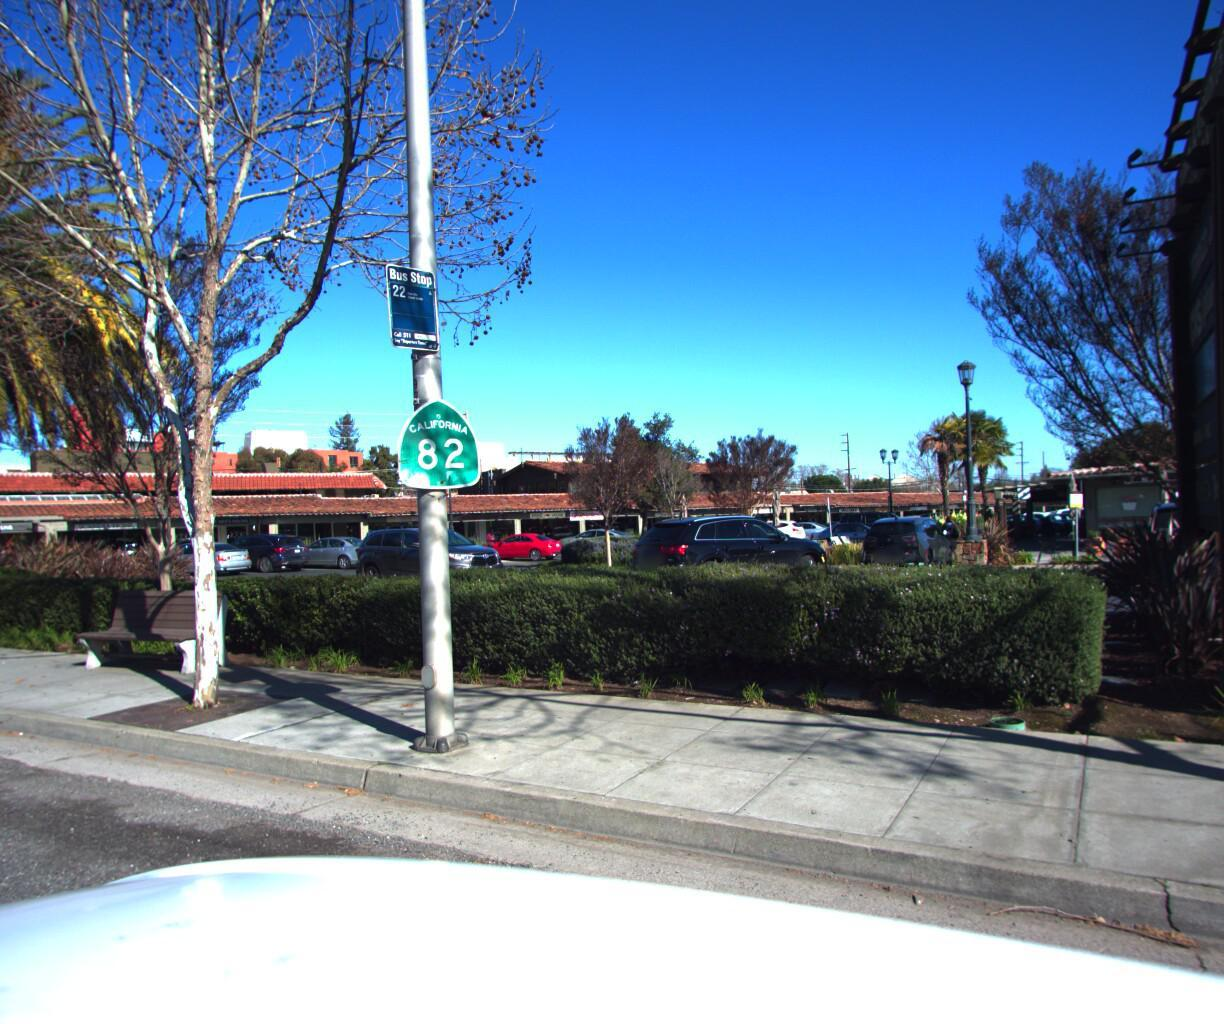car: (0, 535, 37, 600)
